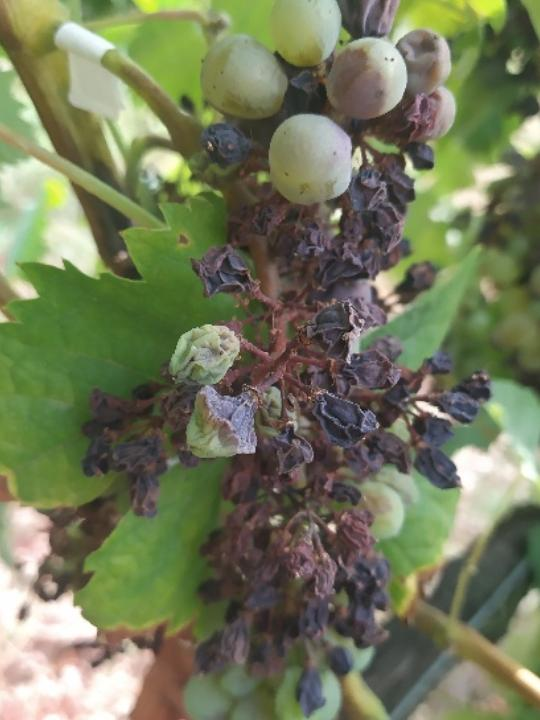grape: (71, 0, 500, 720)
